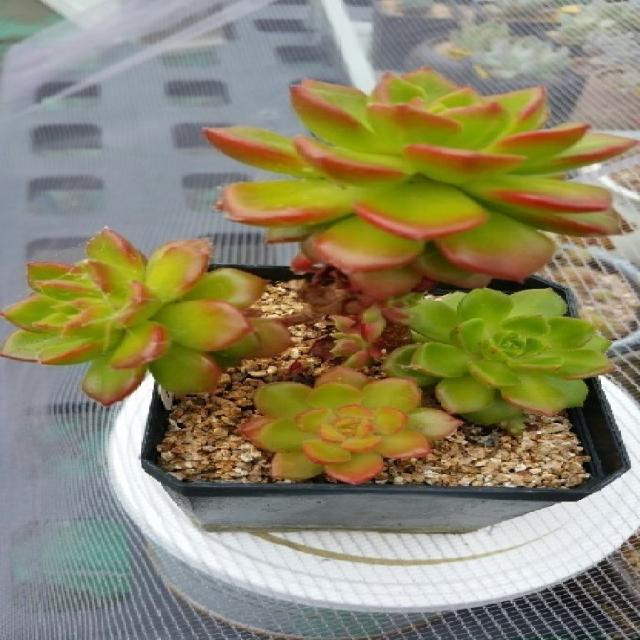Letizia: (205, 69, 636, 300), (2, 229, 287, 405), (387, 289, 614, 426), (240, 368, 460, 483)
